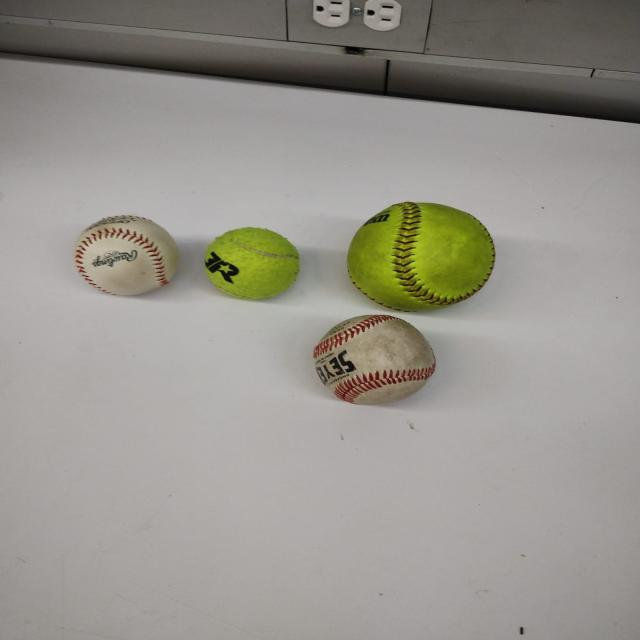beisbol ball: (312, 315, 436, 405), (73, 215, 180, 296)
softball ball: (347, 202, 496, 311)
tenis ball: (202, 227, 301, 300)
